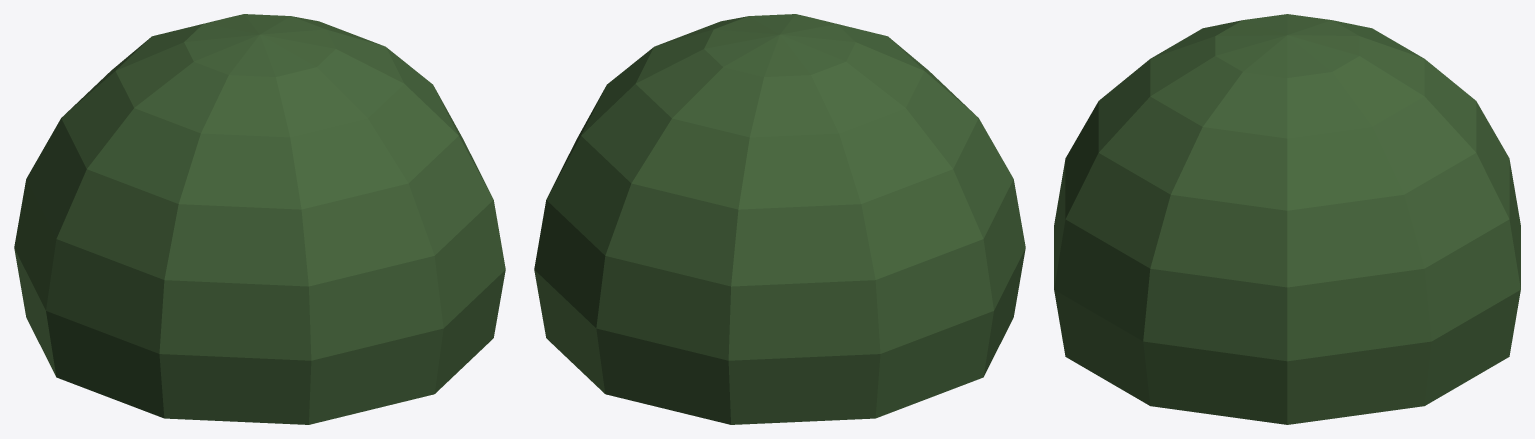
Rendered from bush.fbx.
3 renders of one model, left to right at view 1: azimuth 30°, elevation 25°; view 2: azimuth 150°, elevation 25°; view 3: azimuth 270°, elevation 25°, orthographic.
Visible parts, largest first — view 1: pSphere1; view 2: pSphere1; view 3: pSphere1.
Part boxes in pixels (x1,y1,x2,y2): pSphere1: (14,14,505,424); pSphere1: (534,14,1025,424); pSphere1: (1054,14,1520,424).
Bounding box in the file's own units: 1.95 × 1.28 × 1.86.
